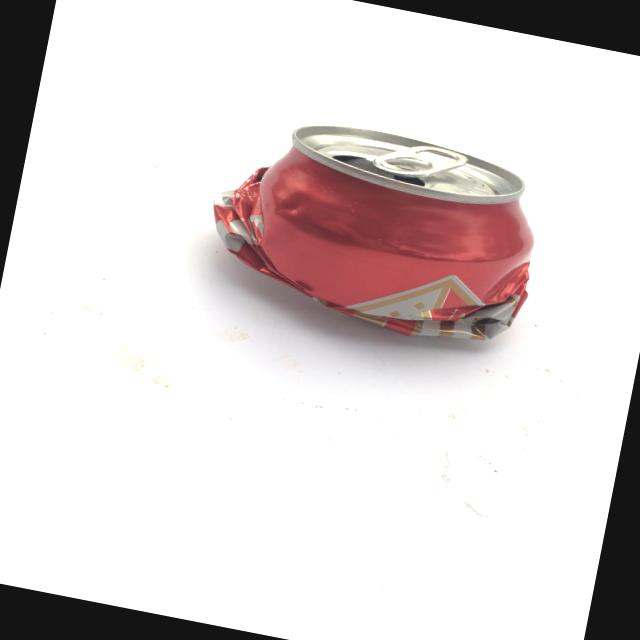Metal: (179, 89, 568, 368)
